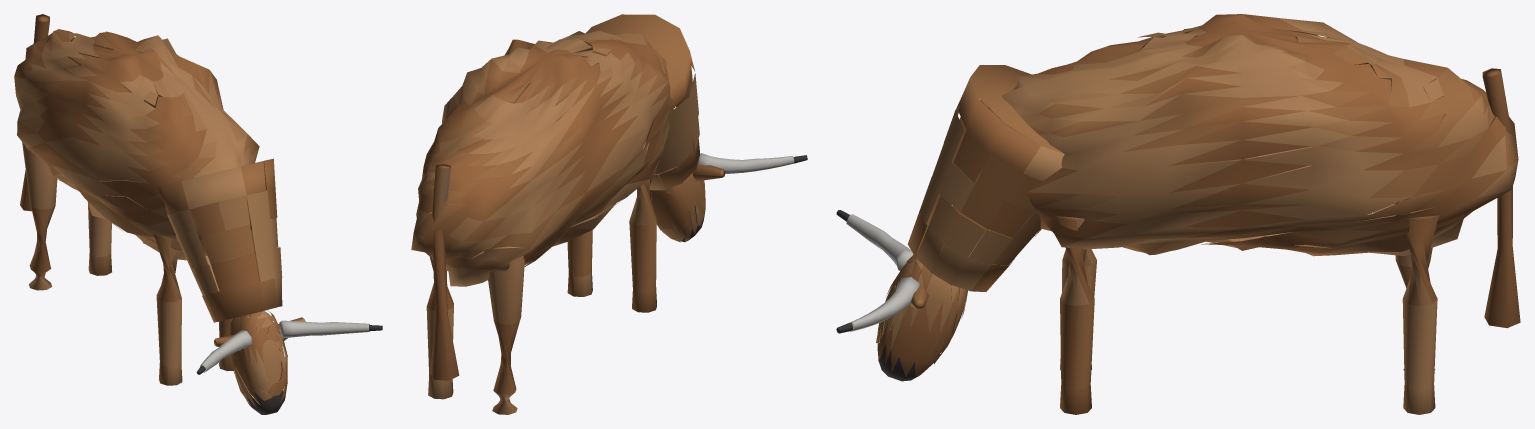
The model's file is animal.farm.highland_0.glb.
The picture shows the model from 3 angles, left to right: view 1: azimuth 30°, elevation 25°; view 2: azimuth 150°, elevation 25°; view 3: azimuth 270°, elevation 25°; orthographic projection. The views are drawn at different scales.
Visible parts, largest first — view 1: main__fabric_a75, main__fabric_963, main__fabric_964, main__fabric_a74, main__fabric_974, main__fabric_bba, main__fabric_853, main__fabric_433; view 2: main__fabric_963, main__fabric_a75, main__fabric_964, main__fabric_974, main__fabric_a74, main__fabric_853, main__fabric_bba, main__fabric_863; view 3: main__fabric_a75, main__fabric_963, main__fabric_964, main__fabric_a74, main__fabric_974, main__fabric_853, main__fabric_bba, main__fabric_433.
Boxes of the visible parts, <box> form: main__fabric_a75: <box>17,35,287,405</box>; main__fabric_963: <box>14,31,287,402</box>; main__fabric_964: <box>14,29,303,396</box>; main__fabric_a74: <box>14,31,288,404</box>; main__fabric_974: <box>18,33,305,406</box>; main__fabric_bba: <box>200,320,369,372</box>; main__fabric_853: <box>20,14,243,351</box>; main__fabric_433: <box>246,383,287,414</box>; main__fabric_963: <box>416,14,704,394</box>; main__fabric_a75: <box>414,30,703,411</box>; main__fabric_964: <box>411,14,725,413</box>; main__fabric_974: <box>418,31,697,414</box>; main__fabric_a74: <box>411,35,705,414</box>; main__fabric_853: <box>430,164,723,380</box>; main__fabric_bba: <box>697,153,794,173</box>; main__fabric_863: <box>434,167,443,221</box>; main__fabric_a75: <box>880,18,1506,414</box>; main__fabric_963: <box>877,14,1510,414</box>; main__fabric_964: <box>876,21,1518,412</box>; main__fabric_a74: <box>876,28,1518,342</box>; main__fabric_974: <box>878,29,1488,370</box>; main__fabric_853: <box>921,68,1520,328</box>; main__fabric_bba: <box>846,214,919,331</box>; main__fabric_433: <box>877,330,919,381</box>.
Bounding box in the file's own units: 1.06 × 1.5 × 2.55.
